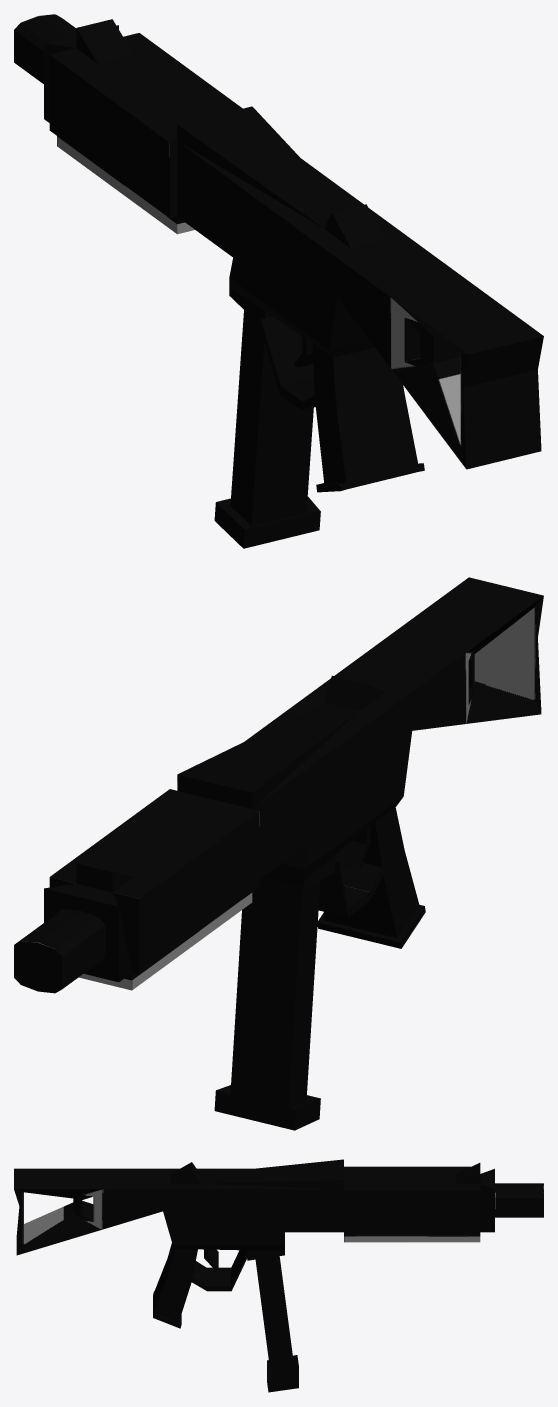
The model's file is SMG2.fbx.
3 renders of one model, top to bottom at view 1: azimuth 30°, elevation 25°; view 2: azimuth 150°, elevation 25°; view 3: azimuth 270°, elevation 25°, orthographic. The views are drawn at different scales.
Visible parts, largest first — view 1: SMG.002; view 2: SMG.002; view 3: SMG.002.
Boxes of the visible parts, left/top/right/bottom form: SMG.002: left=14, top=14, right=543, bottom=548; SMG.002: left=14, top=577, right=543, bottom=1130; SMG.002: left=14, top=1159, right=543, bottom=1392.
Bounding box in the file's own units: 42.41 × 172 × 383.
Materials: 1 (1 with a texture image).
